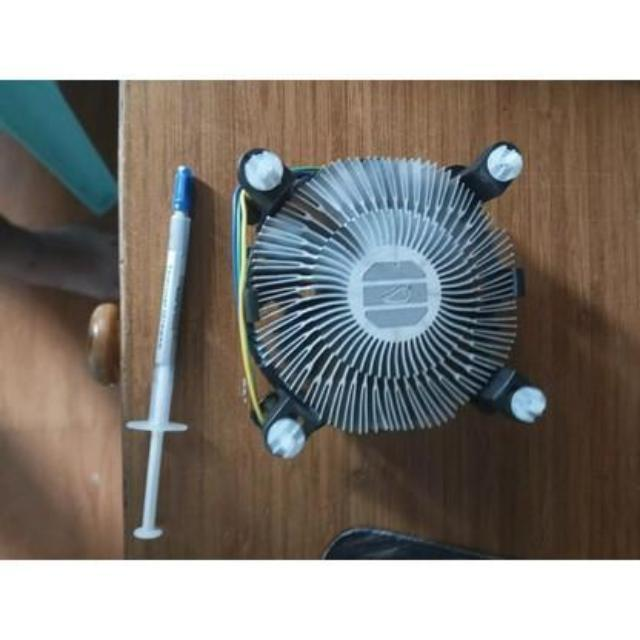CPU_Fan: (228, 142, 552, 458)
